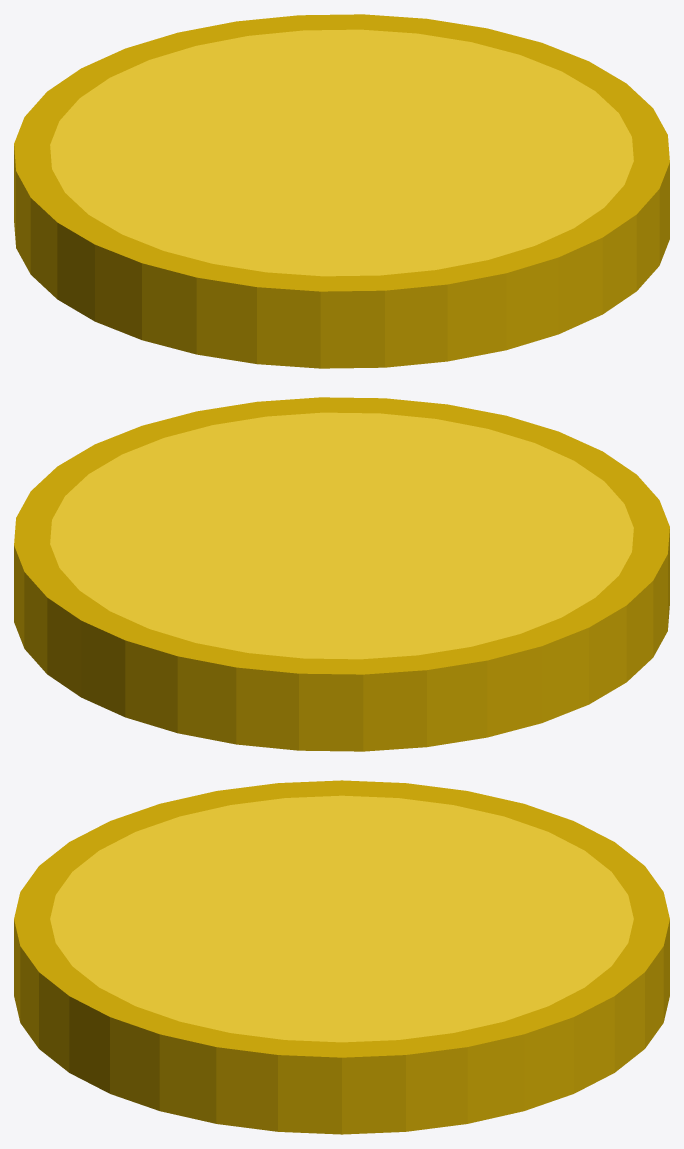
The model's file is Piece_7.fbx.
The picture shows the model from 3 angles, top to bottom: view 1: azimuth 30°, elevation 25°; view 2: azimuth 150°, elevation 25°; view 3: azimuth 270°, elevation 25°; orthographic projection.
Parts seen in each view (by area): view 1: Cylinder.003; view 2: Cylinder.003; view 3: Cylinder.003.
Boxes of the visible parts, box(x1,y1,x2,y2) form: Cylinder.003: box(14, 14, 669, 368); Cylinder.003: box(14, 397, 669, 751); Cylinder.003: box(14, 780, 669, 1134).
Size of the model in its own units: 200 by 25.86 by 200.
